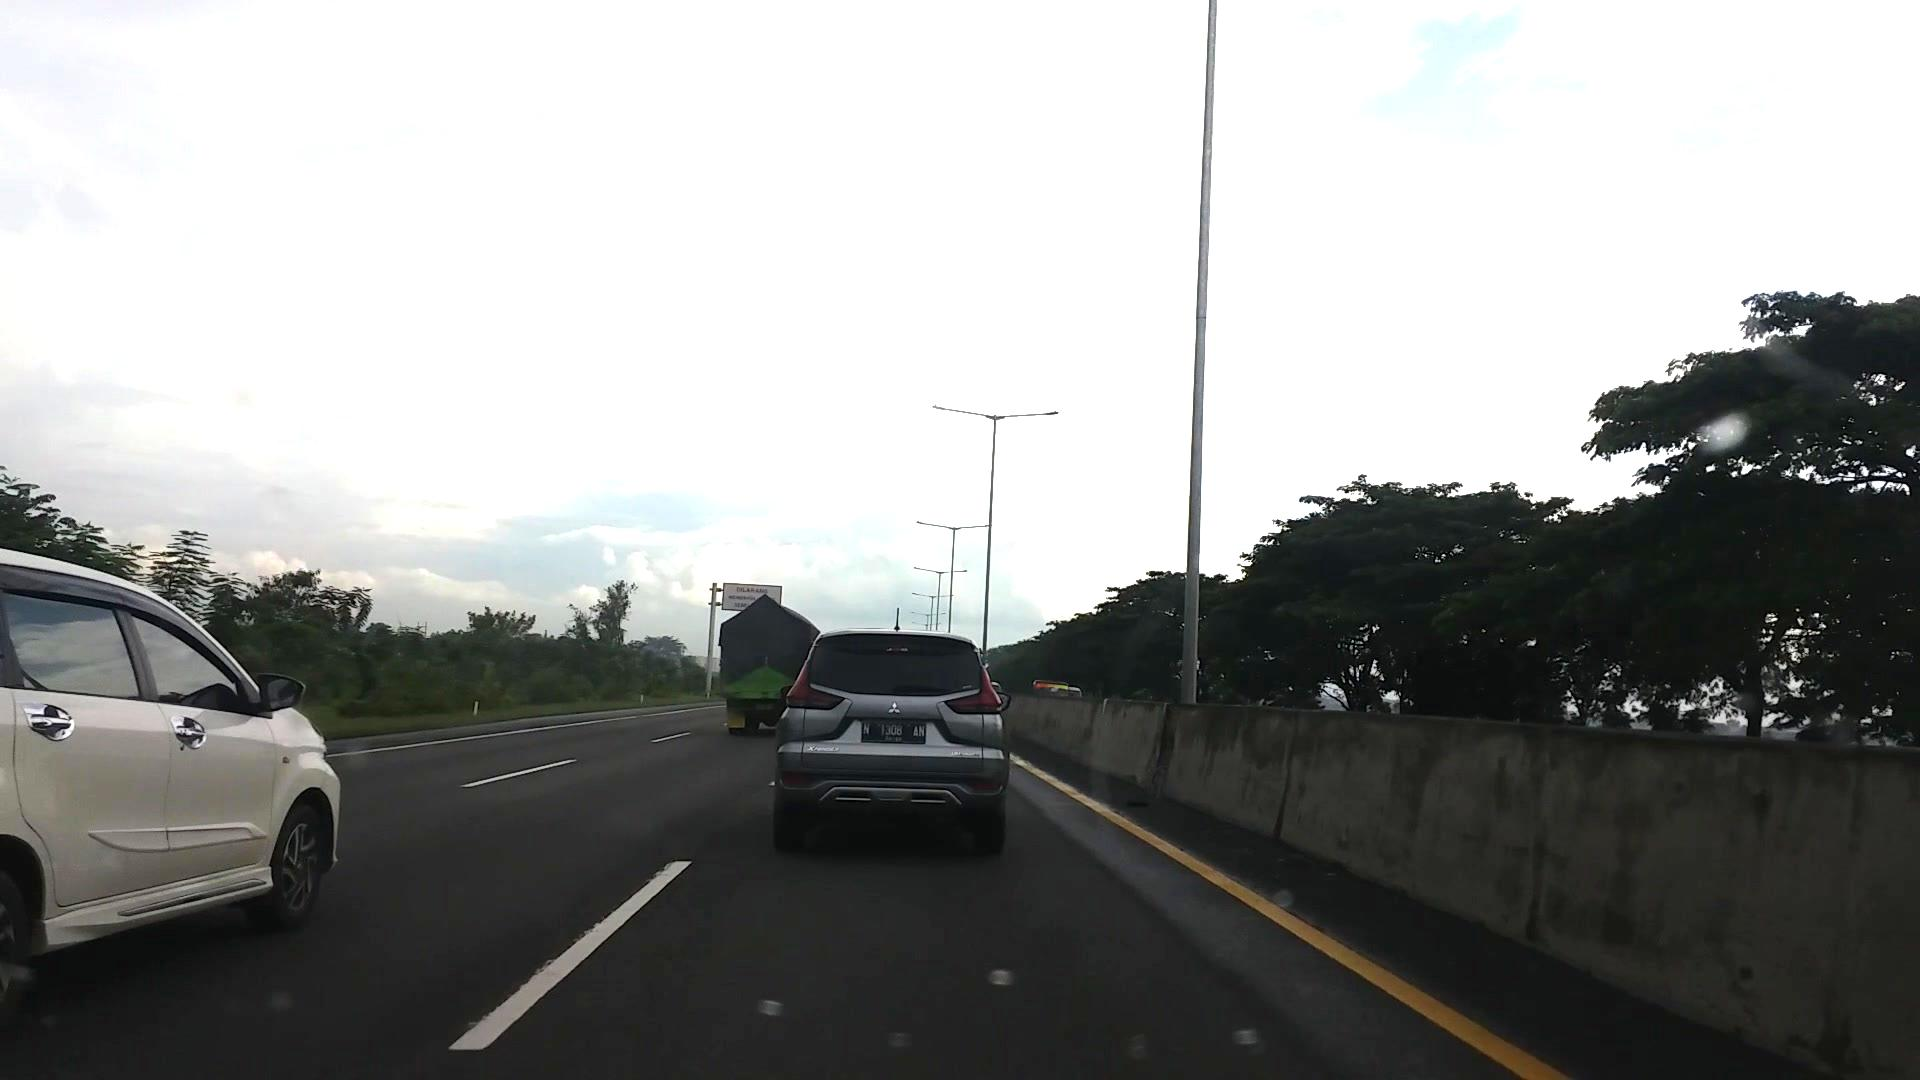plate_positive: (861, 719, 926, 742)
